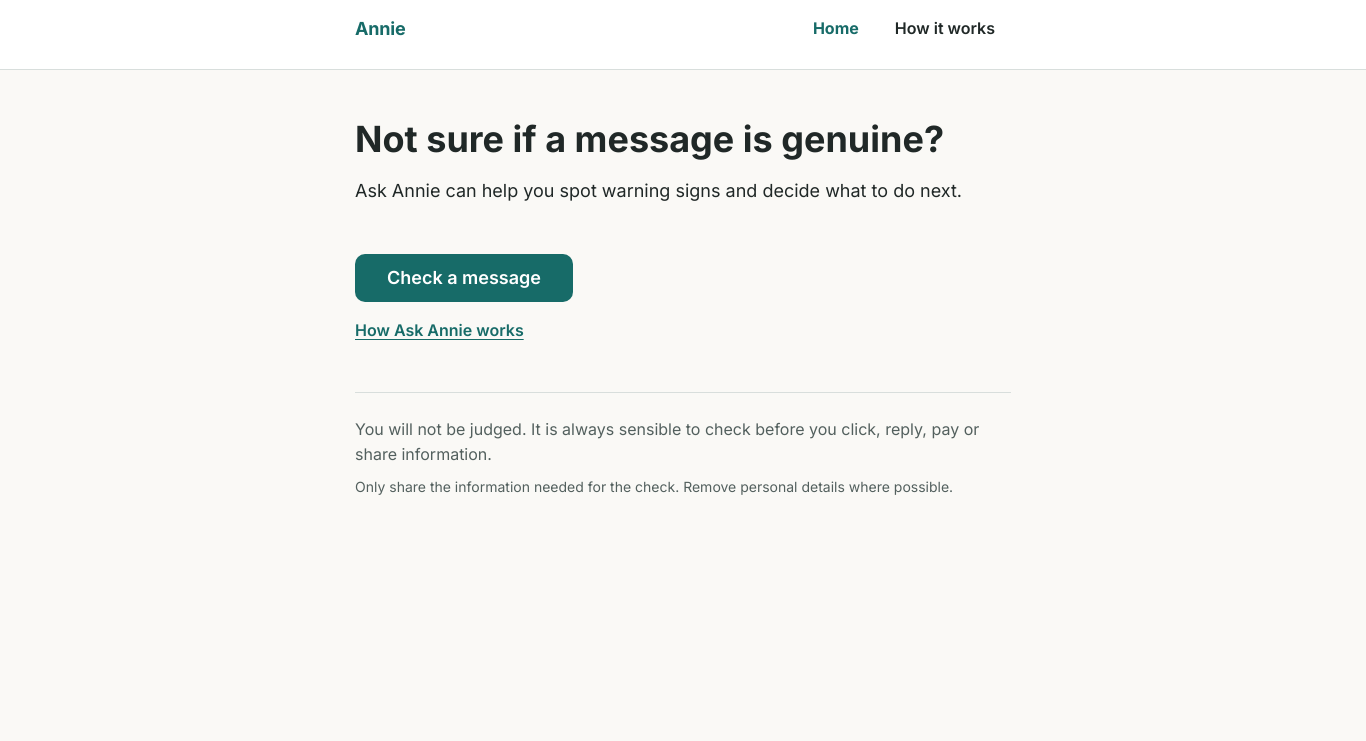
Test: App › navigates to the submit screen slot when the placeholder CTA is clicked
This screenshot has width=1366, height=741.
Click the button "Check a message": (464, 278) [355,254,573,302]
(page scrolled)
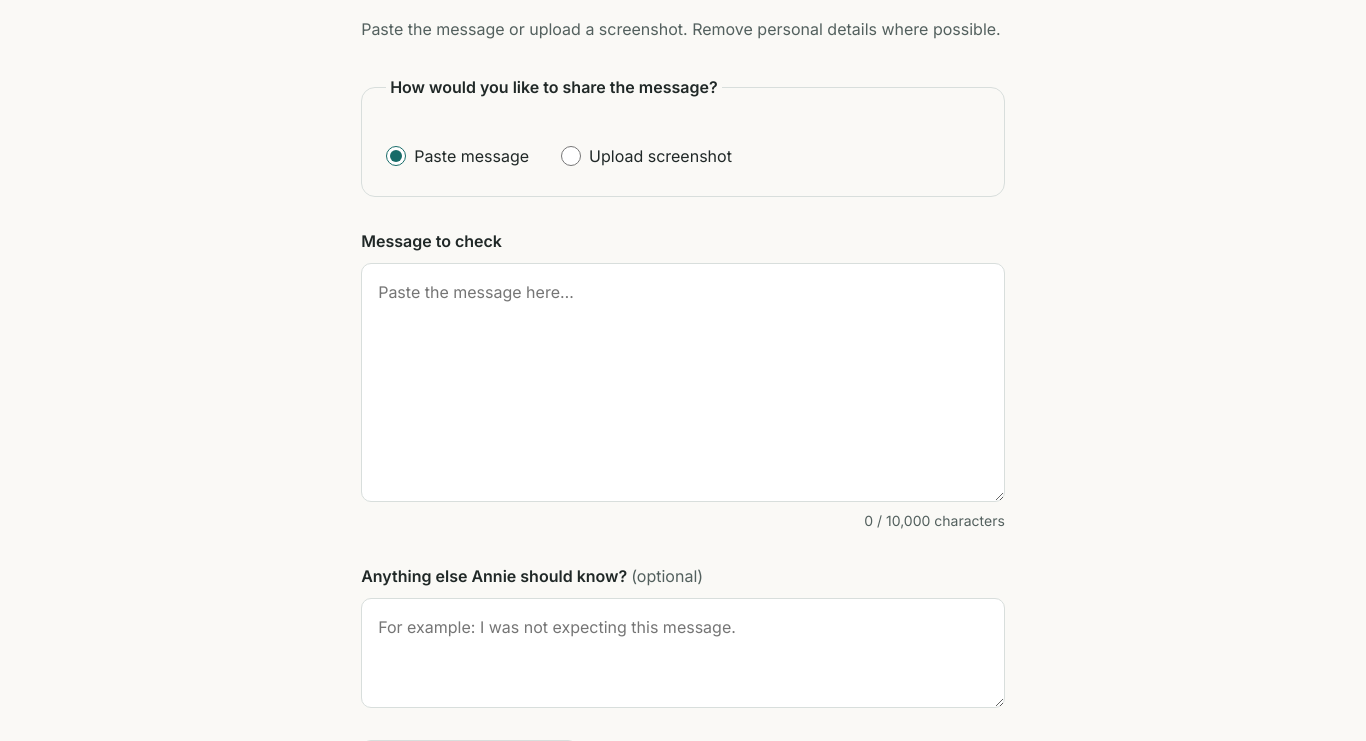
Expected: the element with test id "screen-welcome" is gone
